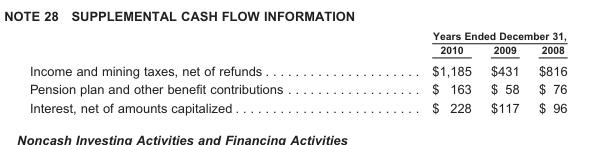table: (28, 29, 566, 114)
table column: (28, 29, 356, 114), (356, 29, 480, 114), (480, 29, 528, 114), (528, 29, 566, 114)
table column header: (28, 29, 566, 59)
table row: (28, 59, 566, 79), (28, 79, 566, 97), (28, 42, 566, 59), (28, 97, 566, 114), (28, 29, 566, 42)
table spanning cell: (356, 29, 566, 42)
